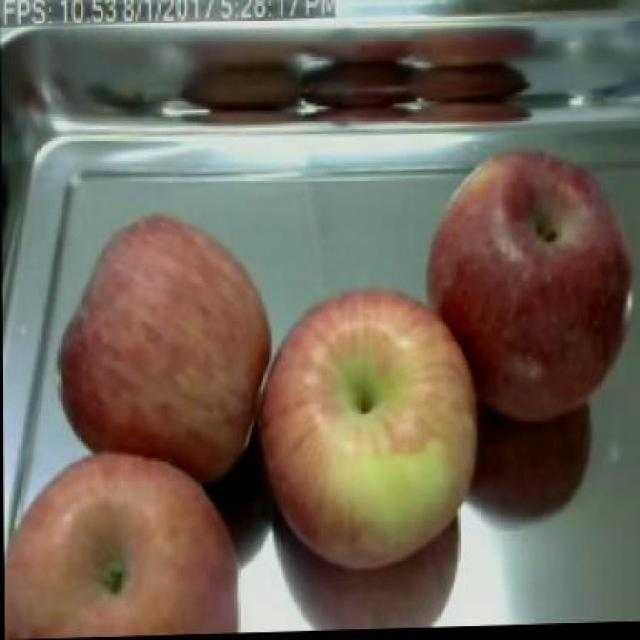Fresh Apple: (265, 287, 477, 564), (429, 146, 640, 422), (75, 214, 272, 465), (5, 446, 238, 629)
